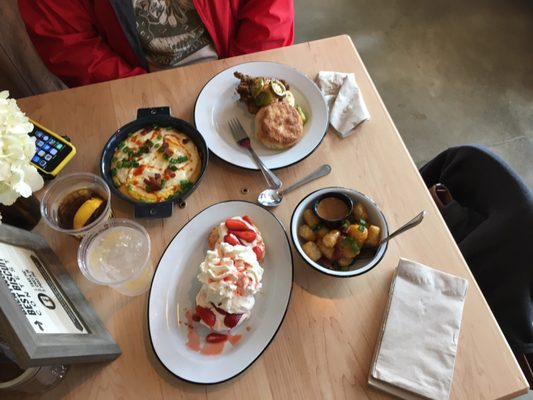pizza: (77, 218, 152, 296), (39, 171, 112, 238)
salad: (360, 210, 426, 249)
sandwich: (229, 117, 283, 189)
sushi: (291, 187, 392, 278), (105, 124, 203, 207)
